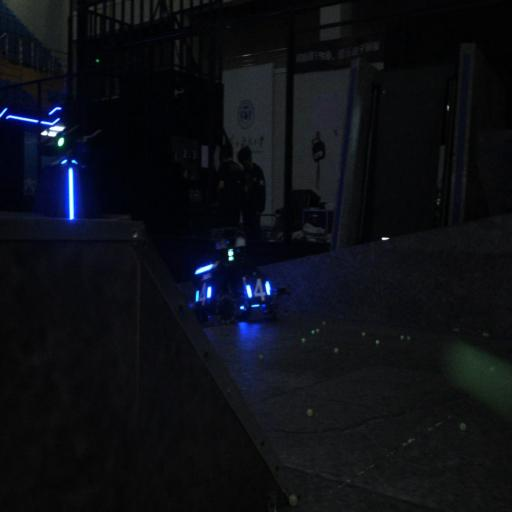target: (242, 273, 276, 308), (194, 274, 215, 312)
